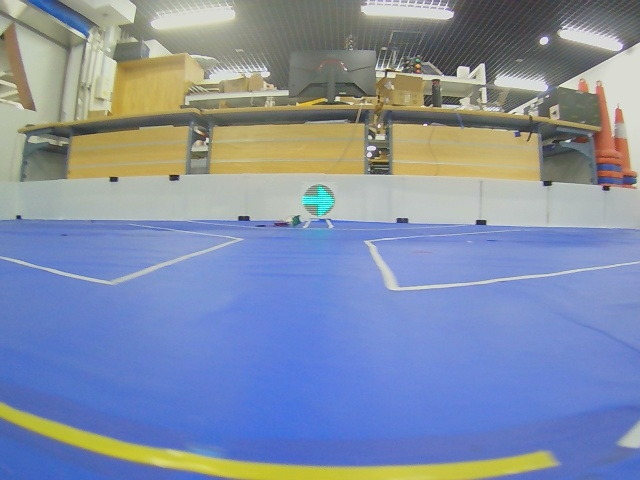right_green: (302, 184, 335, 217)
